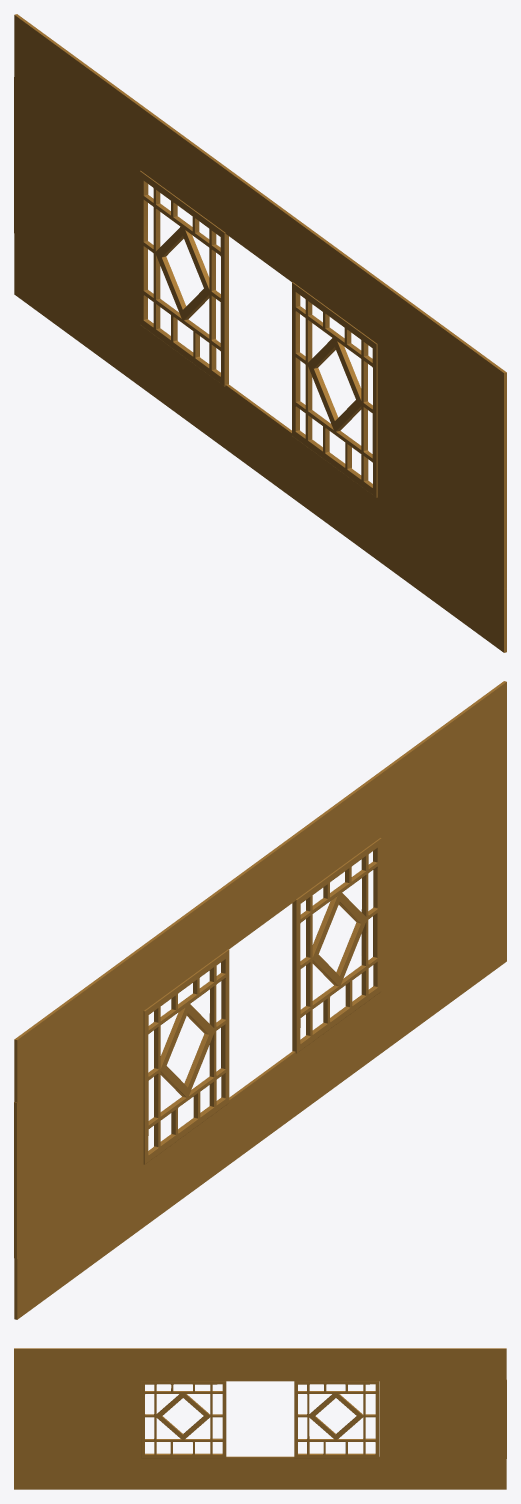
Rendered from windowWall.fbx.
3 renders of one model, top to bottom at view 1: azimuth 30°, elevation 25°; view 2: azimuth 150°, elevation 25°; view 3: azimuth 270°, elevation 25°, orthographic. The views are drawn at different scales.
Parts seen in each view (by area): view 1: Cube; view 2: Cube; view 3: Cube.
Part boxes in pixels (bbox=[...]): Cube: bbox=[14, 14, 506, 652]; Cube: bbox=[14, 681, 506, 1319]; Cube: bbox=[14, 1348, 506, 1489].
Bounding box in the file's own units: 321 × 18275 × 58033.
